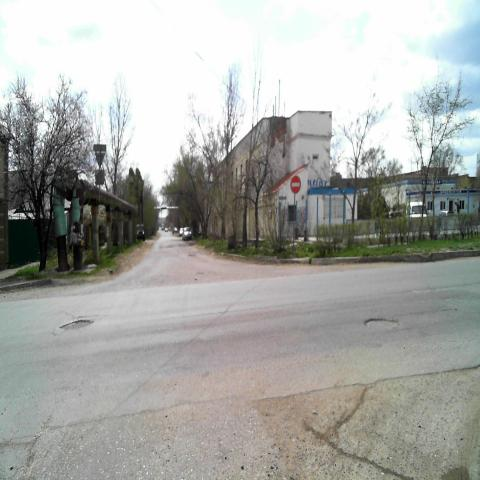3_1: (290, 172, 302, 194)
